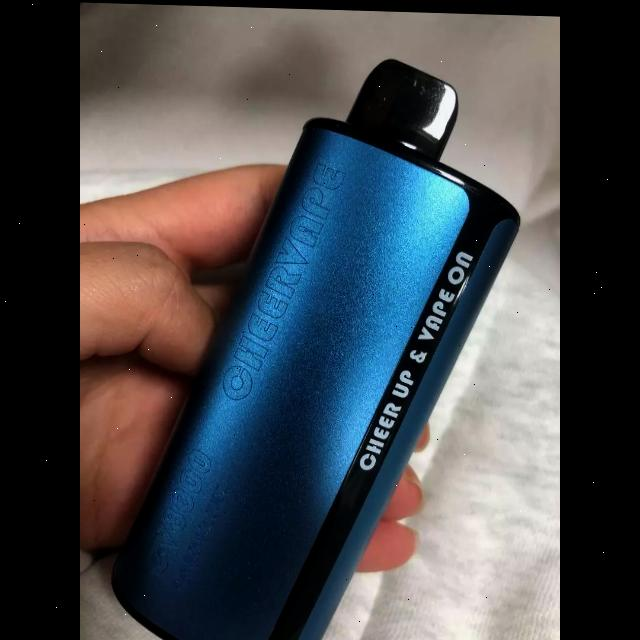vape: (113, 55, 520, 640)
